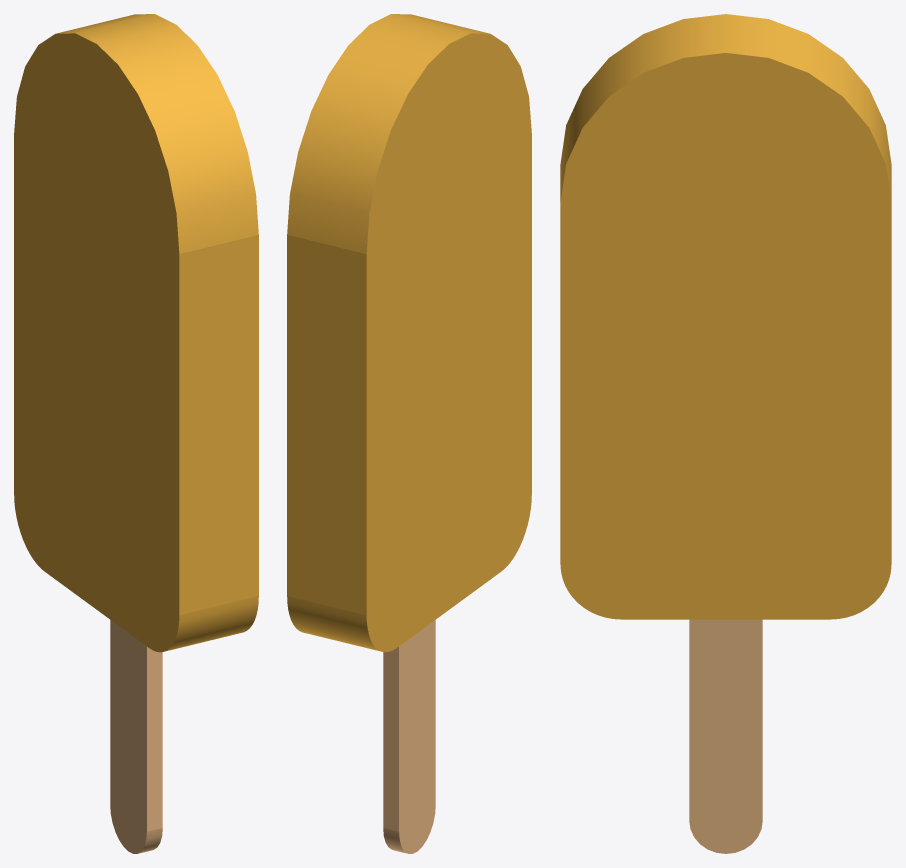
The model's file is popsicle.fbx.
3 views of the same model, side by side, from view 1: azimuth 30°, elevation 25°; view 2: azimuth 150°, elevation 25°; view 3: azimuth 270°, elevation 25° (orthographic).
Parts seen in each view (by area): view 1: popsicle; view 2: popsicle; view 3: popsicle.
Part boxes in pixels (x1,y1,x2,y2): popsicle: (14,14,258,853); popsicle: (287,14,531,853); popsicle: (560,14,891,853).
Bounding box in the file's own units: 0.5 × 4.9 × 1.8.
